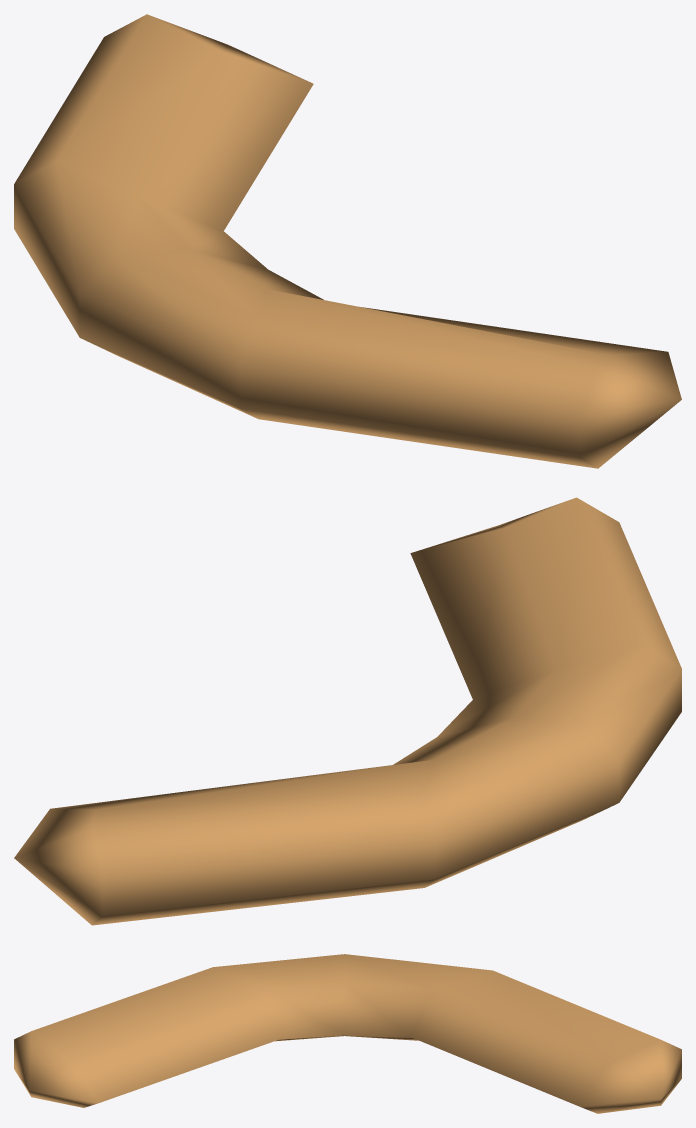
The model's file is Boomer.fbx.
The picture shows the model from 3 angles, top to bottom: view 1: azimuth 30°, elevation 25°; view 2: azimuth 150°, elevation 25°; view 3: azimuth 270°, elevation 25°; orthographic projection. The views are drawn at different scales.
Visible parts, largest first — view 1: pCylinder1; view 2: pCylinder1; view 3: pCylinder1.
Boxes of the visible parts, x1,y1,x2,y2 form: pCylinder1: [14, 14, 681, 468]; pCylinder1: [14, 497, 681, 925]; pCylinder1: [14, 954, 681, 1113].
Bounding box in the file's own units: 507 × 120 × 1079.
